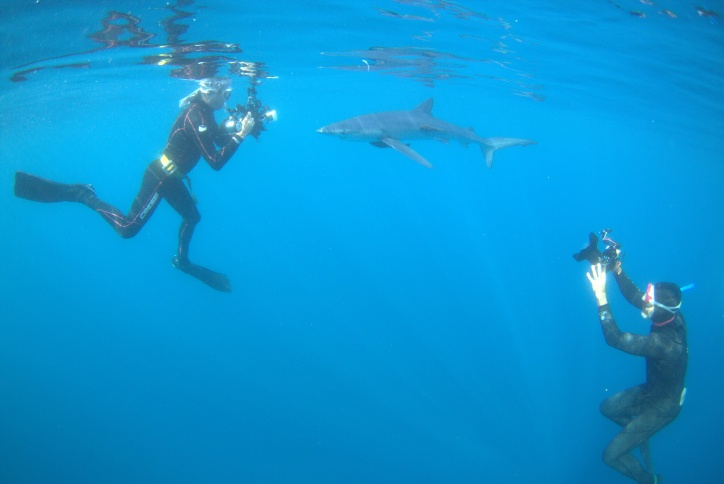Azul: (298, 79, 538, 200)
